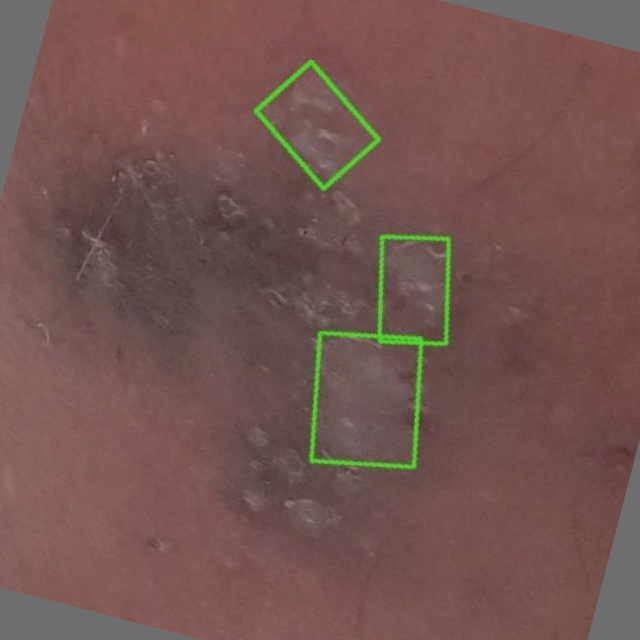Contact Dermatitis: (256, 63, 379, 189), (312, 333, 421, 467), (380, 237, 448, 344)
